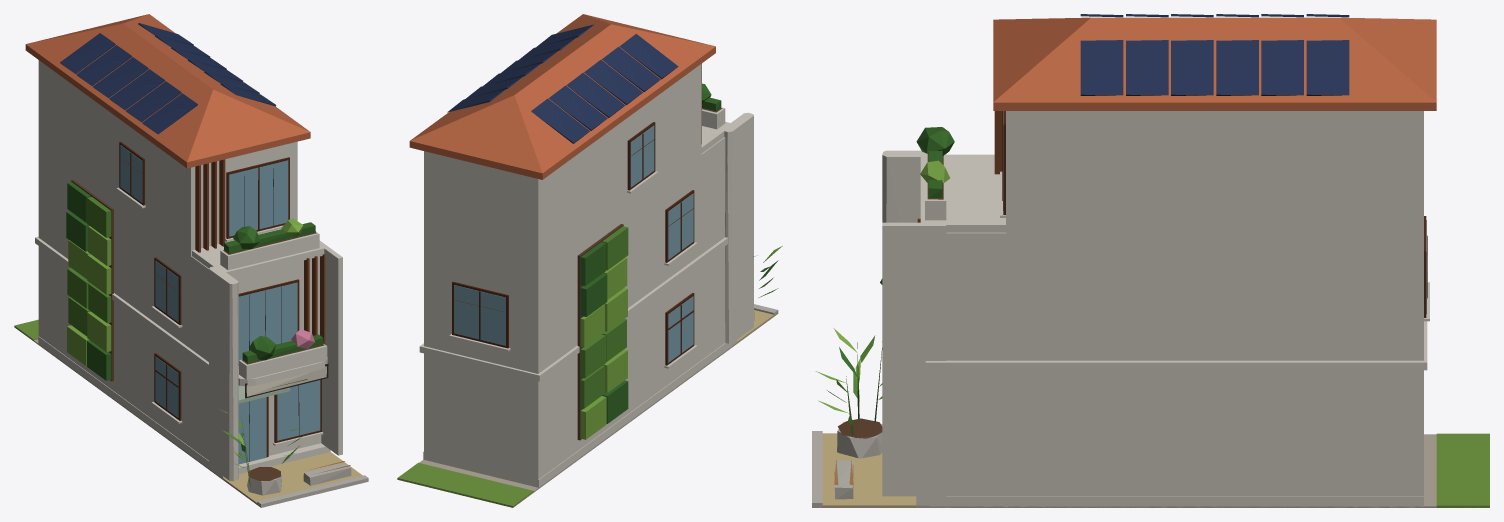
File: bay1_left.glb
3 views of the same model, side by side, from view 1: azimuth 30°, elevation 25°; view 2: azimuth 150°, elevation 25°; view 3: azimuth 270°, elevation 25° (orthographic). The views are drawn at different scales.
Parts seen in each view (by area): view 1: body; view 2: body; view 3: body.
Boxes of the visible parts, x1,y1,x2,y2 form: body: [14, 14, 368, 507]; body: [397, 14, 782, 507]; body: [812, 14, 1489, 507].
Bounding box in the file's own units: 4.92 × 11.76 × 15.9.
